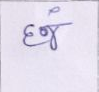anusvara: (50, 7, 59, 14)
